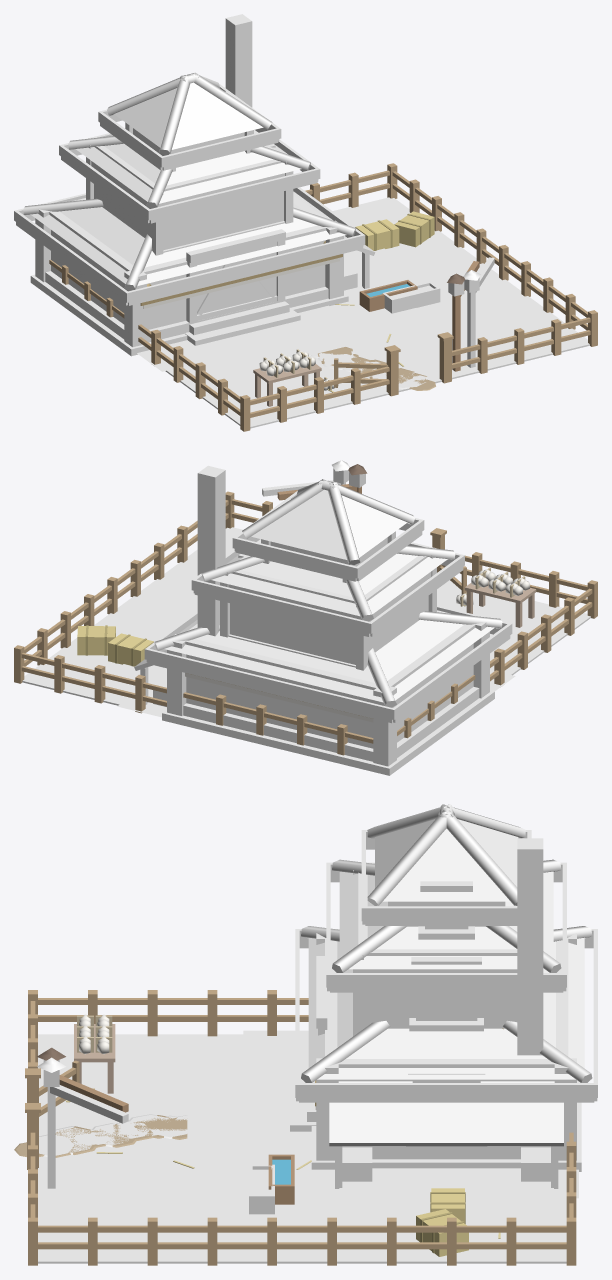
Rendered from sheep_pen_1.glb.
The picture shows the model from 3 angles, top to bottom: view 1: azimuth 30°, elevation 25°; view 2: azimuth 150°, elevation 25°; view 3: azimuth 270°, elevation 25°; orthographic projection. The views are drawn at different scales.
Visible parts, largest first — view 1: when_plan_true, body6, sheep_pen_1; view 2: when_plan_true, body6, sheep_pen_1, body5; view 3: when_plan_true, body6, sheep_pen_1.
Boxes of the visible parts, left/top/right/bottom form: when_plan_true: left=14, top=14, right=494, bottom=389; body6: left=49, top=163, right=597, bottom=431; sheep_pen_1: left=171, top=250, right=396, bottom=372; when_plan_true: left=89, top=460, right=517, bottom=775; body6: left=14, top=464, right=597, bottom=755; sheep_pen_1: left=115, top=655, right=493, bottom=717; body5: left=456, top=567, right=495, bottom=606; when_plan_true: left=37, top=804, right=597, bottom=1220; body6: left=14, top=990, right=576, bottom=1265; sheep_pen_1: left=207, top=1030, right=528, bottom=1183.
Bounding box in the file's own units: 2.76 × 1.64 × 2.8.
